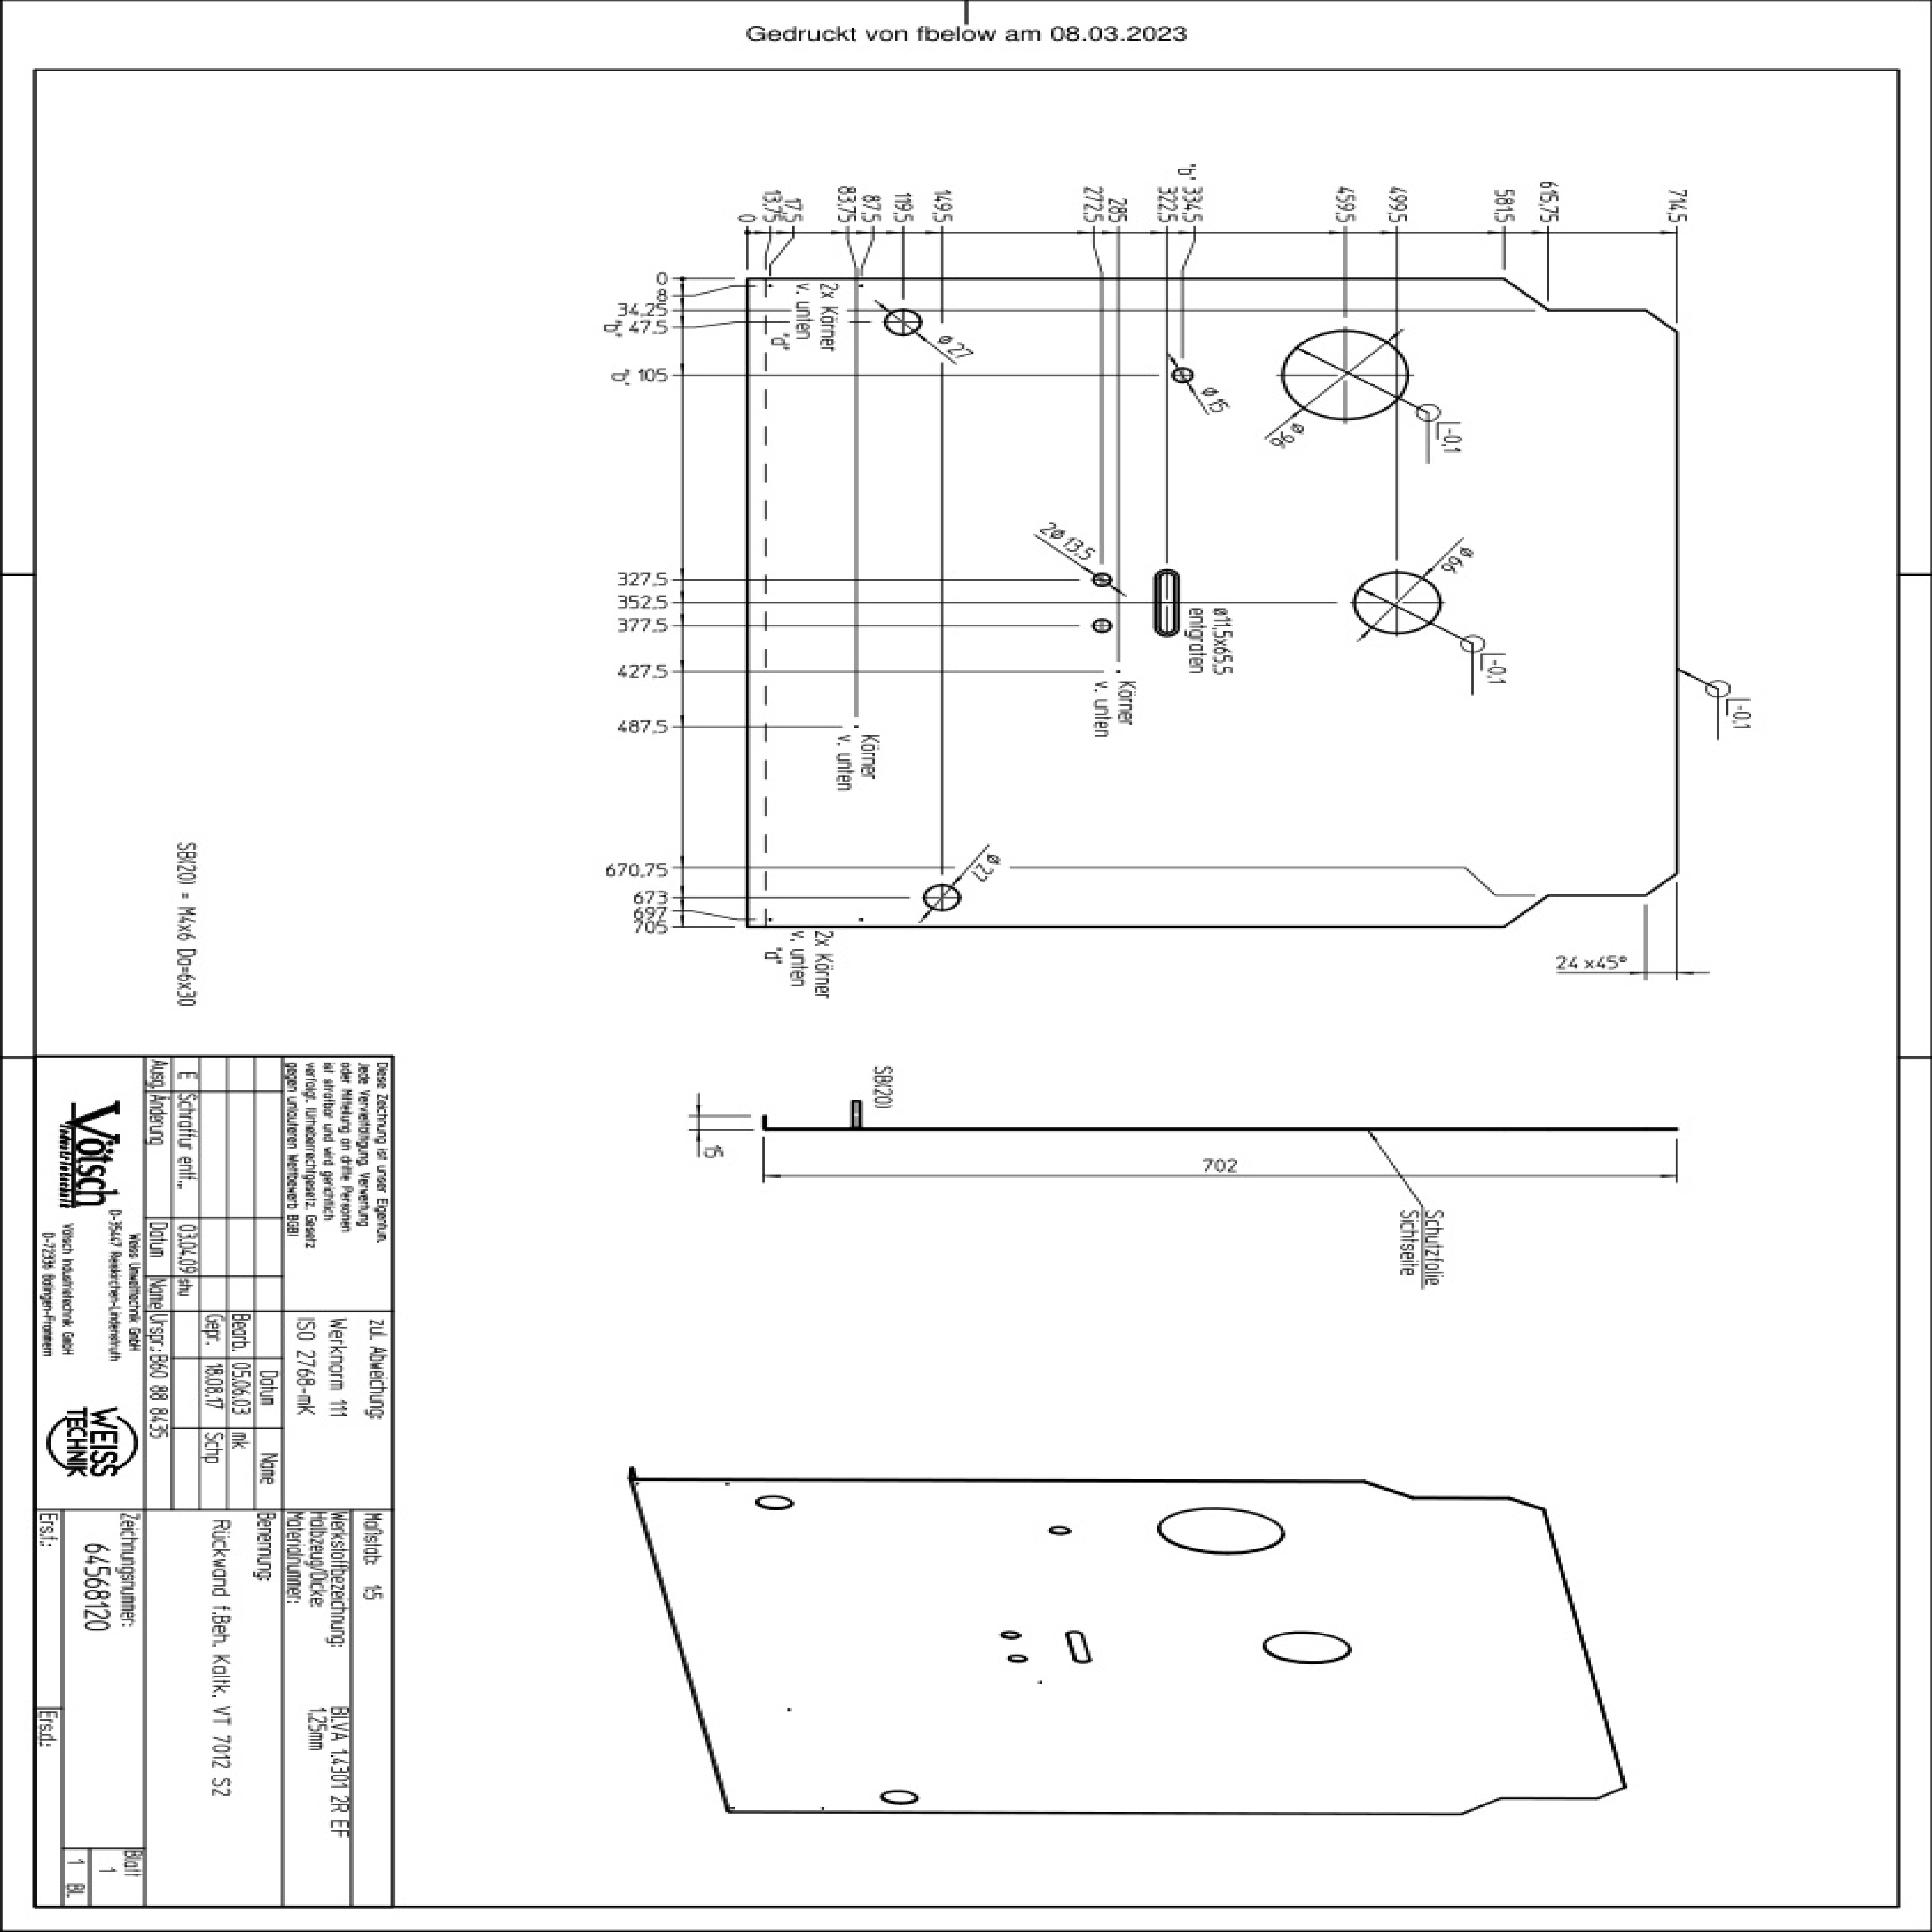InnerContour: (1279, 329, 1415, 426), (1348, 566, 1445, 639), (1155, 1506, 1286, 1559), (1143, 564, 1191, 644), (1260, 1631, 1352, 1665), (1062, 1622, 1095, 1675), (918, 881, 966, 915), (883, 308, 924, 338), (876, 1787, 920, 1805), (755, 1495, 794, 1511), (1171, 366, 1194, 384), (1090, 571, 1113, 587), (1090, 617, 1113, 633), (1046, 1525, 1074, 1537), (998, 1629, 1021, 1642), (1007, 1652, 1030, 1665)
